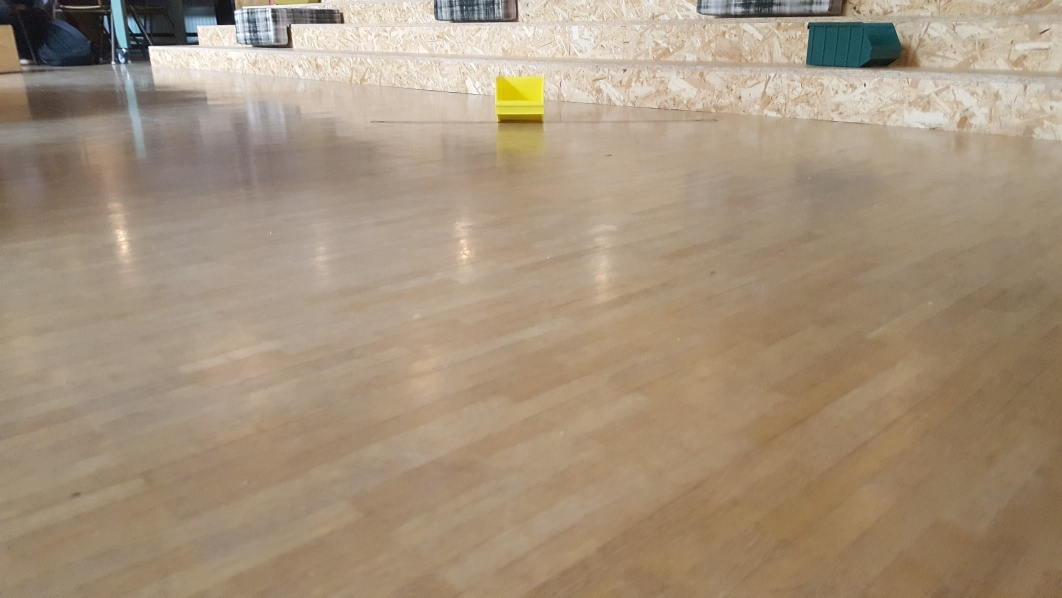tray: (792, 16, 910, 69), (488, 72, 547, 121)
